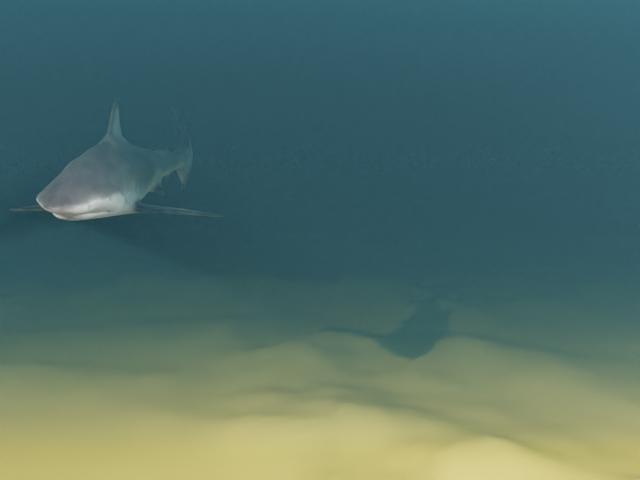Carribean Shark.001: (8, 98, 223, 220)
